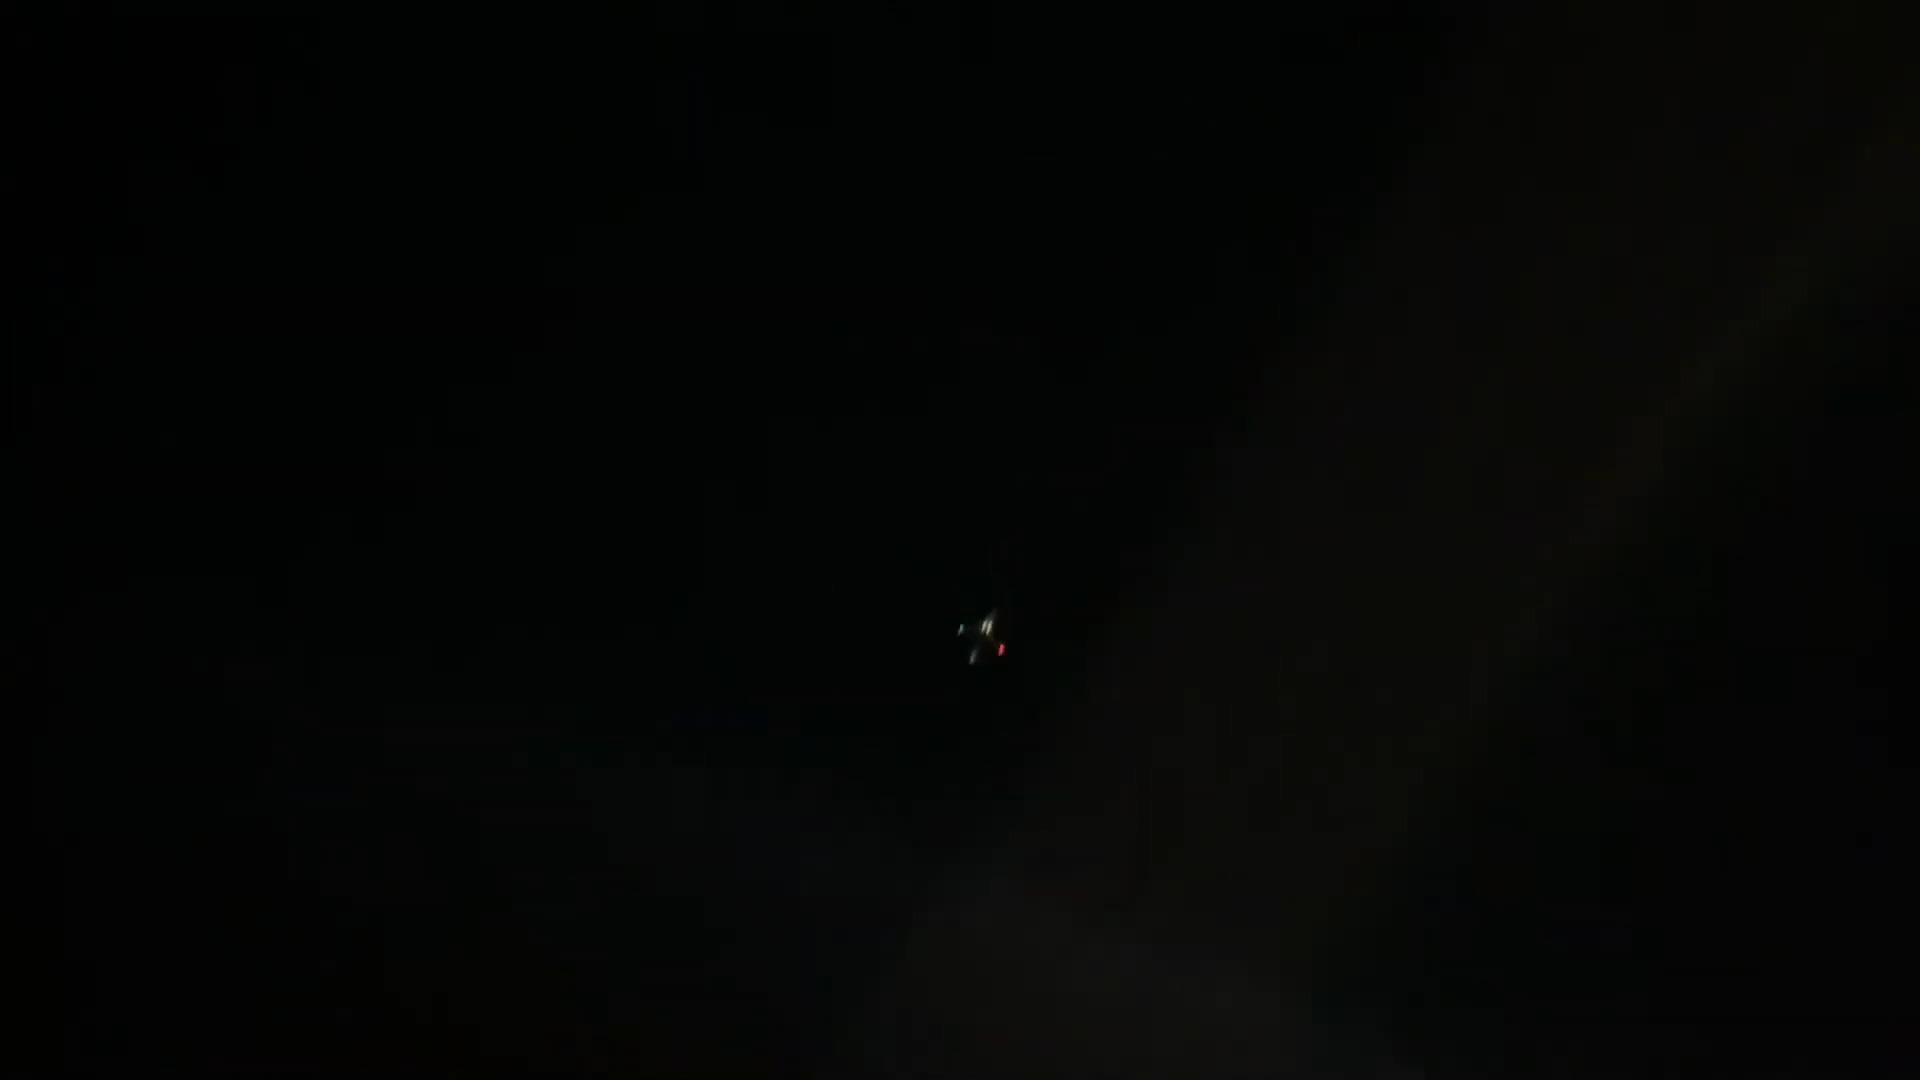Plane: (905, 587, 1063, 688)
